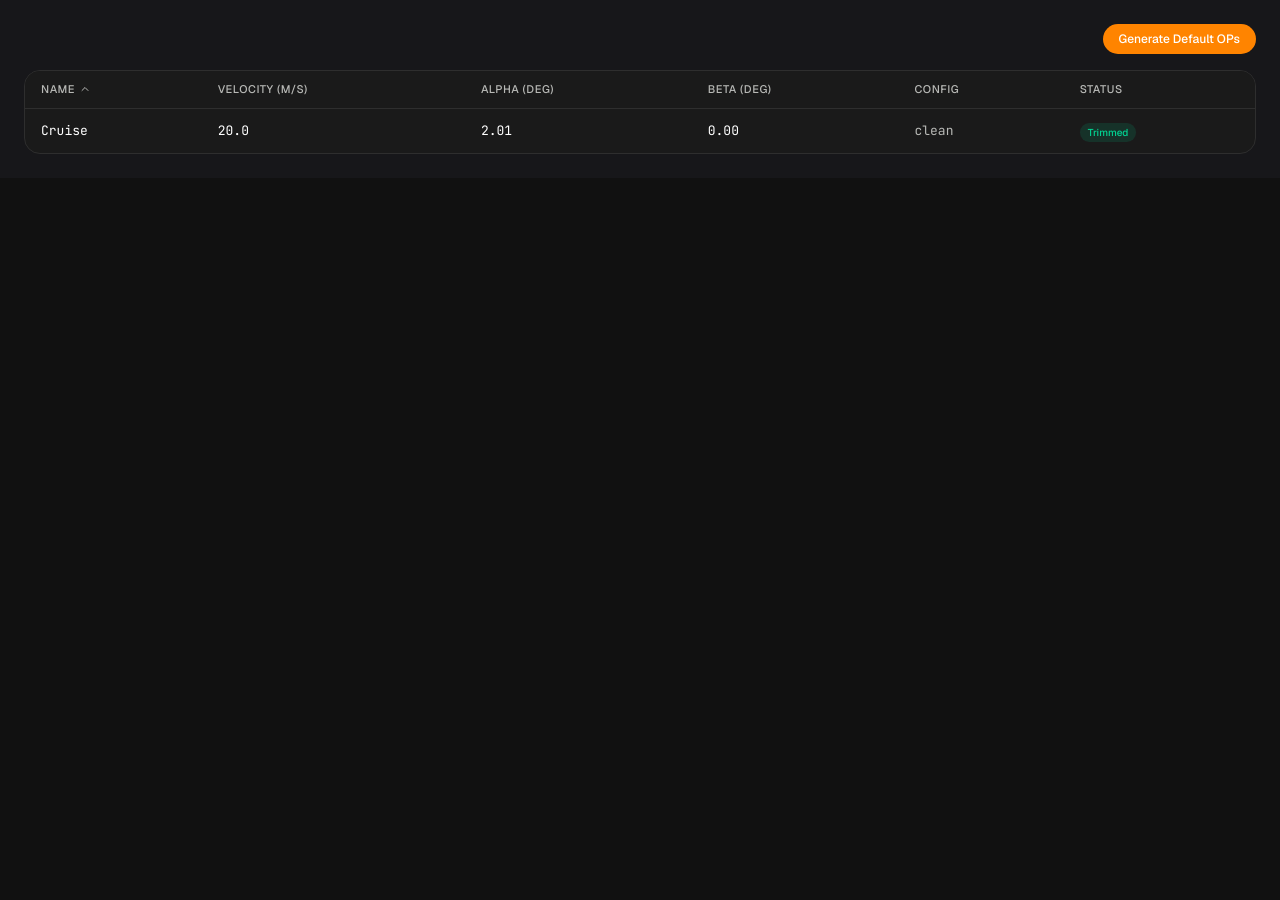
OperatingPointsPanel › closing the drawer works
Step 1. Click the text "Cruise" → x=64, y=130, box [25,108,202,152]
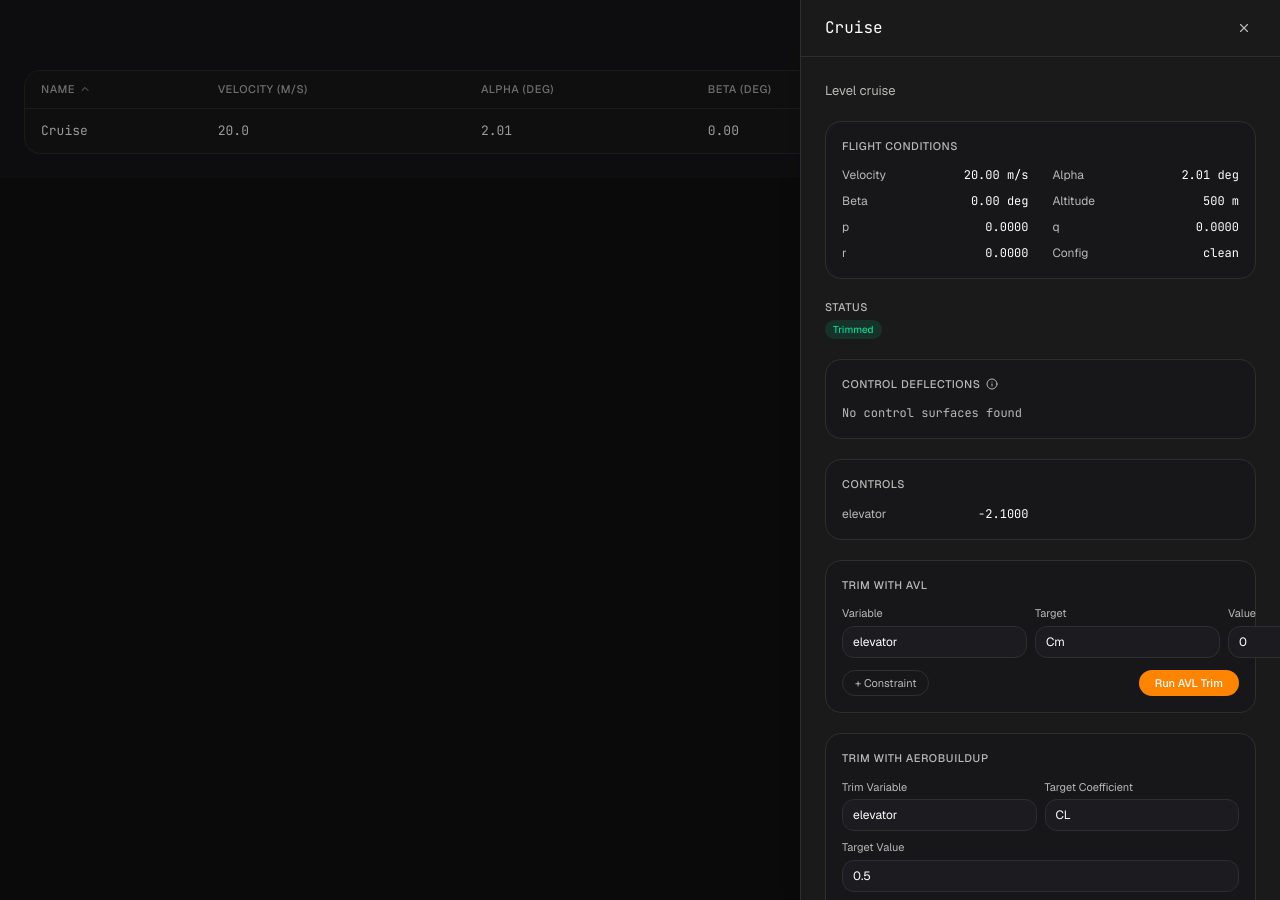
Check: the text "Flight Conditions" is shown, box [842,138,958,152]
Step 2. Click the button named "close detail drawer" → x=400, y=450, box [0,0,800,899]
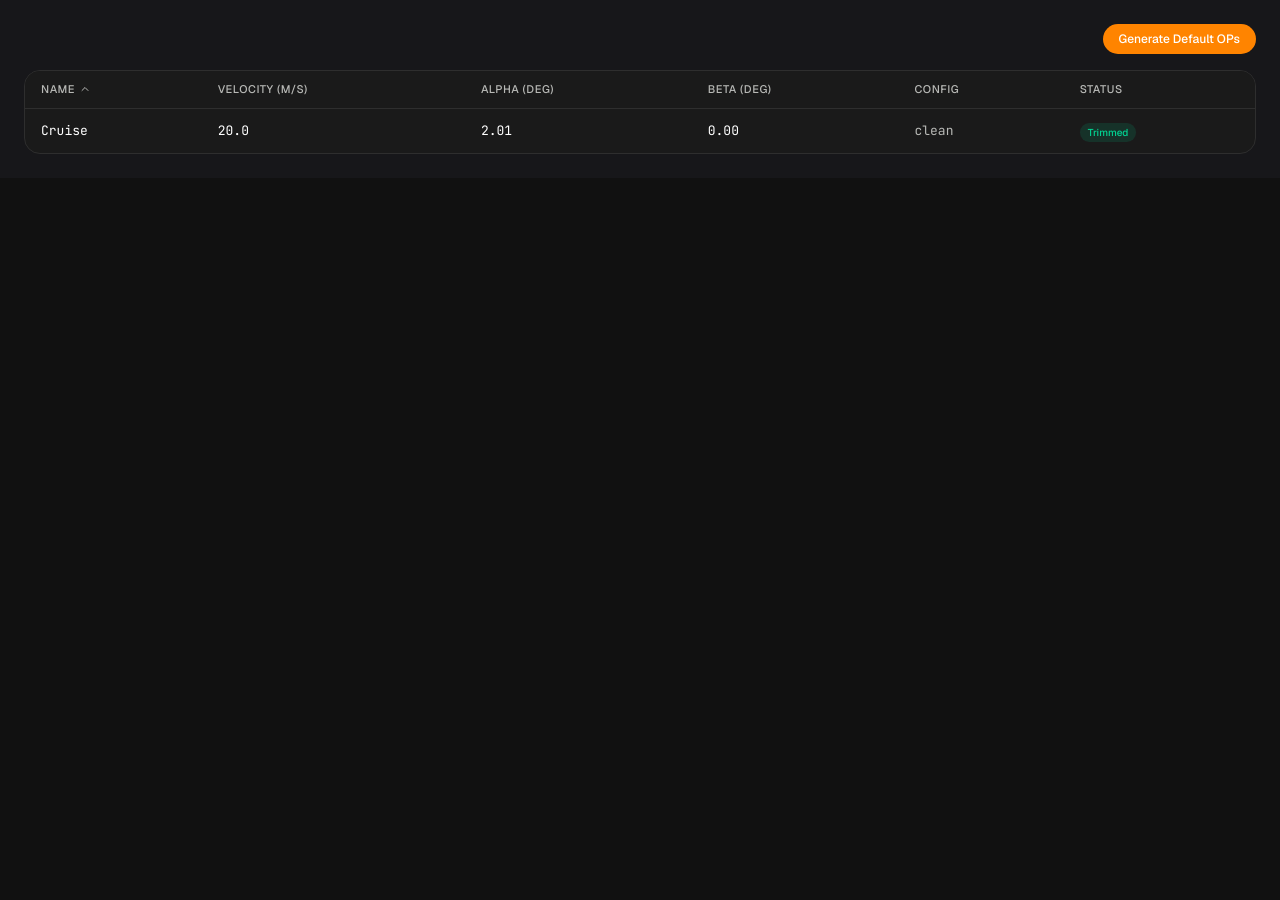
Check: the text "Flight Conditions" is gone
